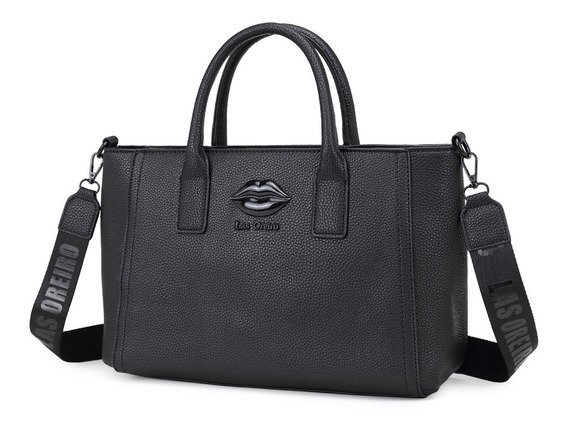cartera: (30, 22, 536, 399)
